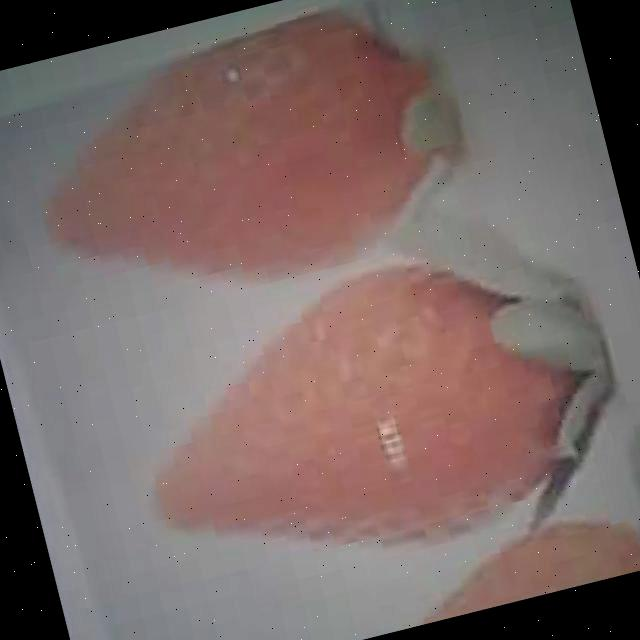ripe: (116, 227, 604, 594), (15, 0, 461, 330)
